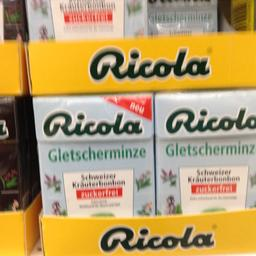candy: (30, 89, 156, 246), (152, 84, 255, 234), (24, 0, 146, 86)
